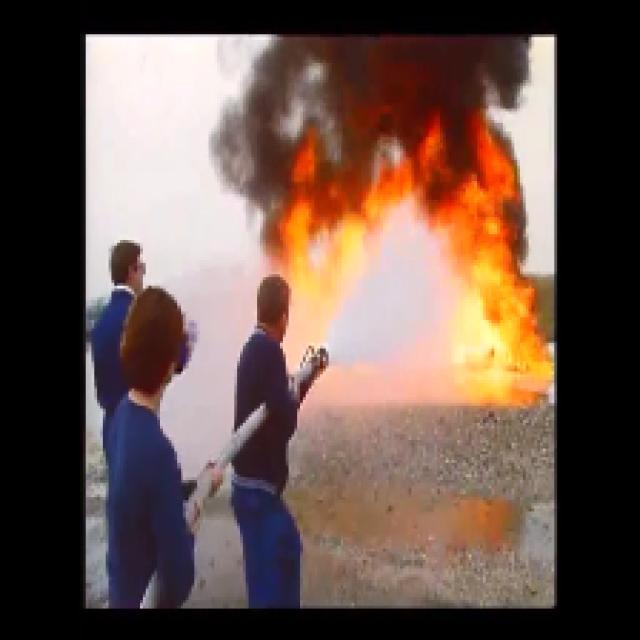smoke: (291, 33, 486, 119), (443, 182, 510, 317)
